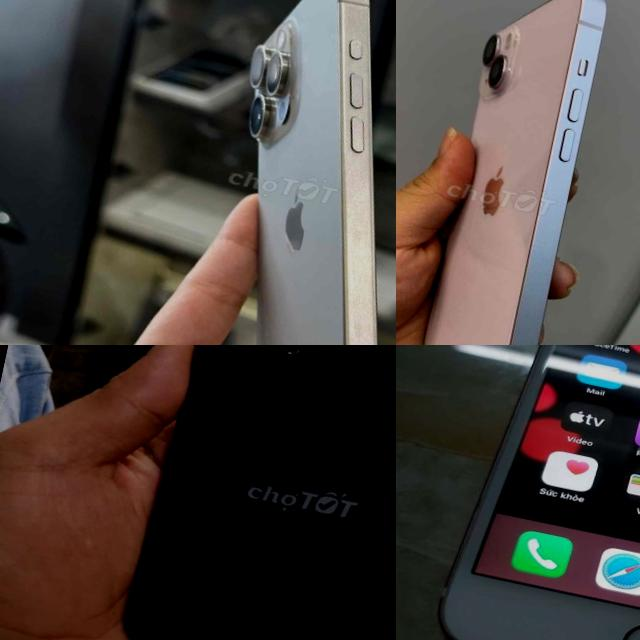scratch: (357, 345, 396, 640), (325, 345, 396, 398)
